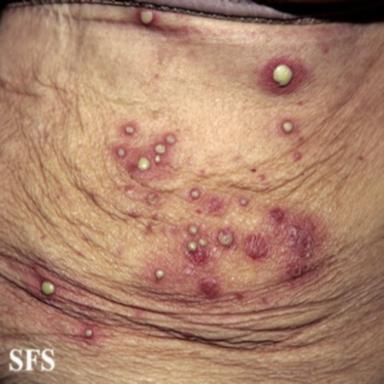Impetigo: (269, 207, 323, 282), (178, 223, 238, 281), (114, 134, 177, 180), (259, 55, 308, 96), (186, 185, 225, 215), (245, 234, 268, 259), (199, 277, 220, 298), (136, 8, 157, 25), (281, 118, 295, 135), (41, 281, 55, 295), (123, 123, 137, 136), (155, 268, 164, 280), (84, 328, 93, 339), (239, 197, 249, 206)
